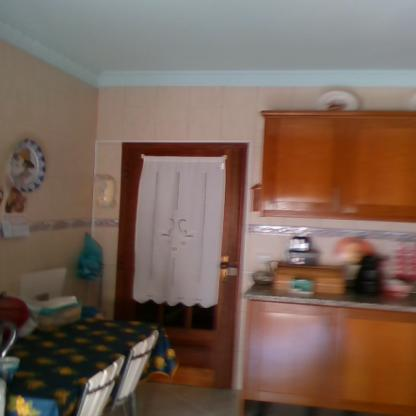door: (126, 150, 234, 388)
knob: (218, 260, 230, 270)
